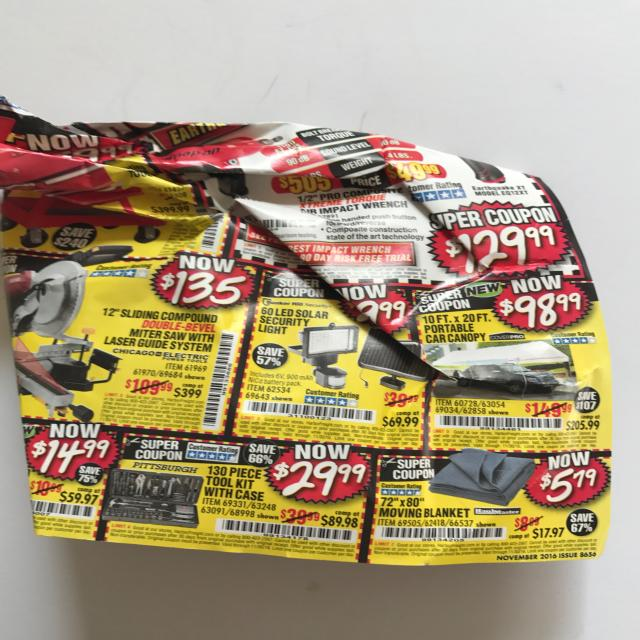paper: (0, 68, 638, 580)
